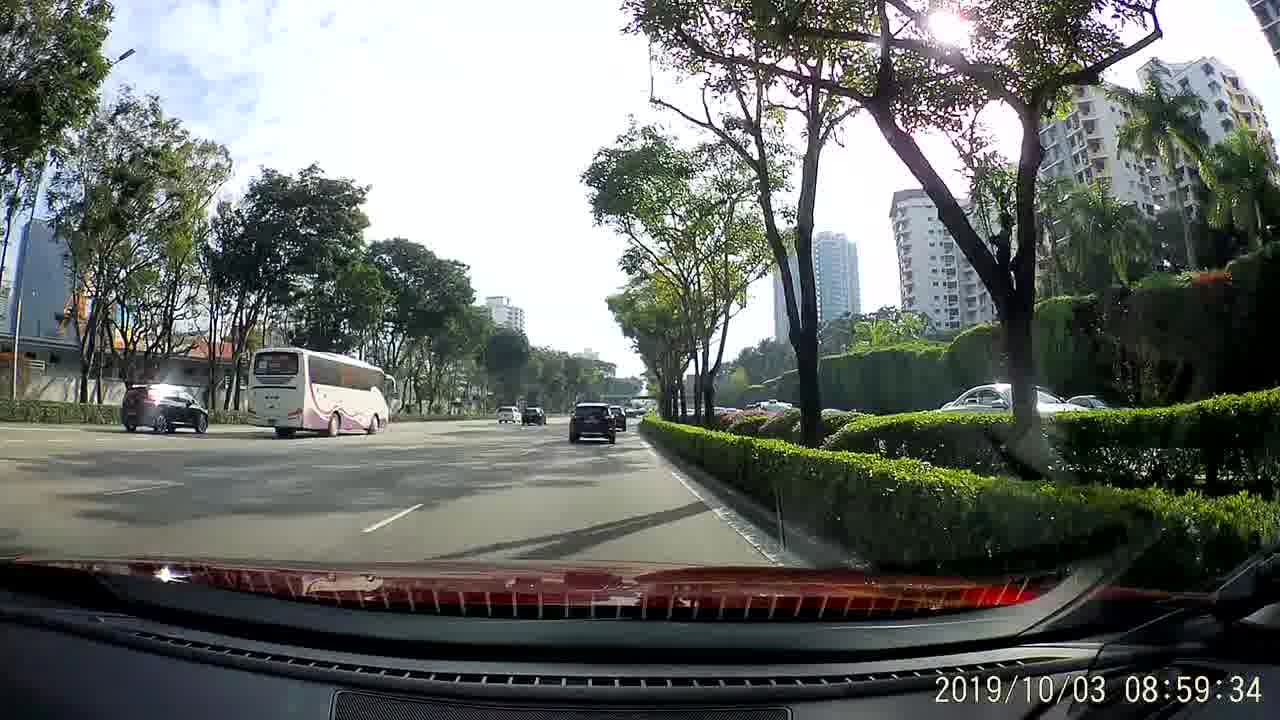bus: (245, 340, 398, 439)
car: (938, 376, 1092, 416), (118, 379, 210, 436), (568, 401, 616, 444), (519, 404, 546, 427), (498, 404, 523, 427), (608, 406, 628, 432)
